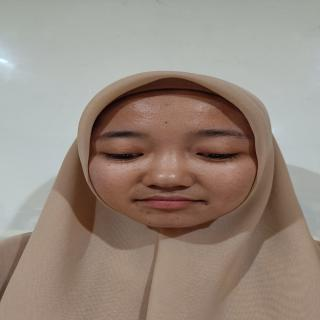Sedih: (85, 89, 273, 237)
